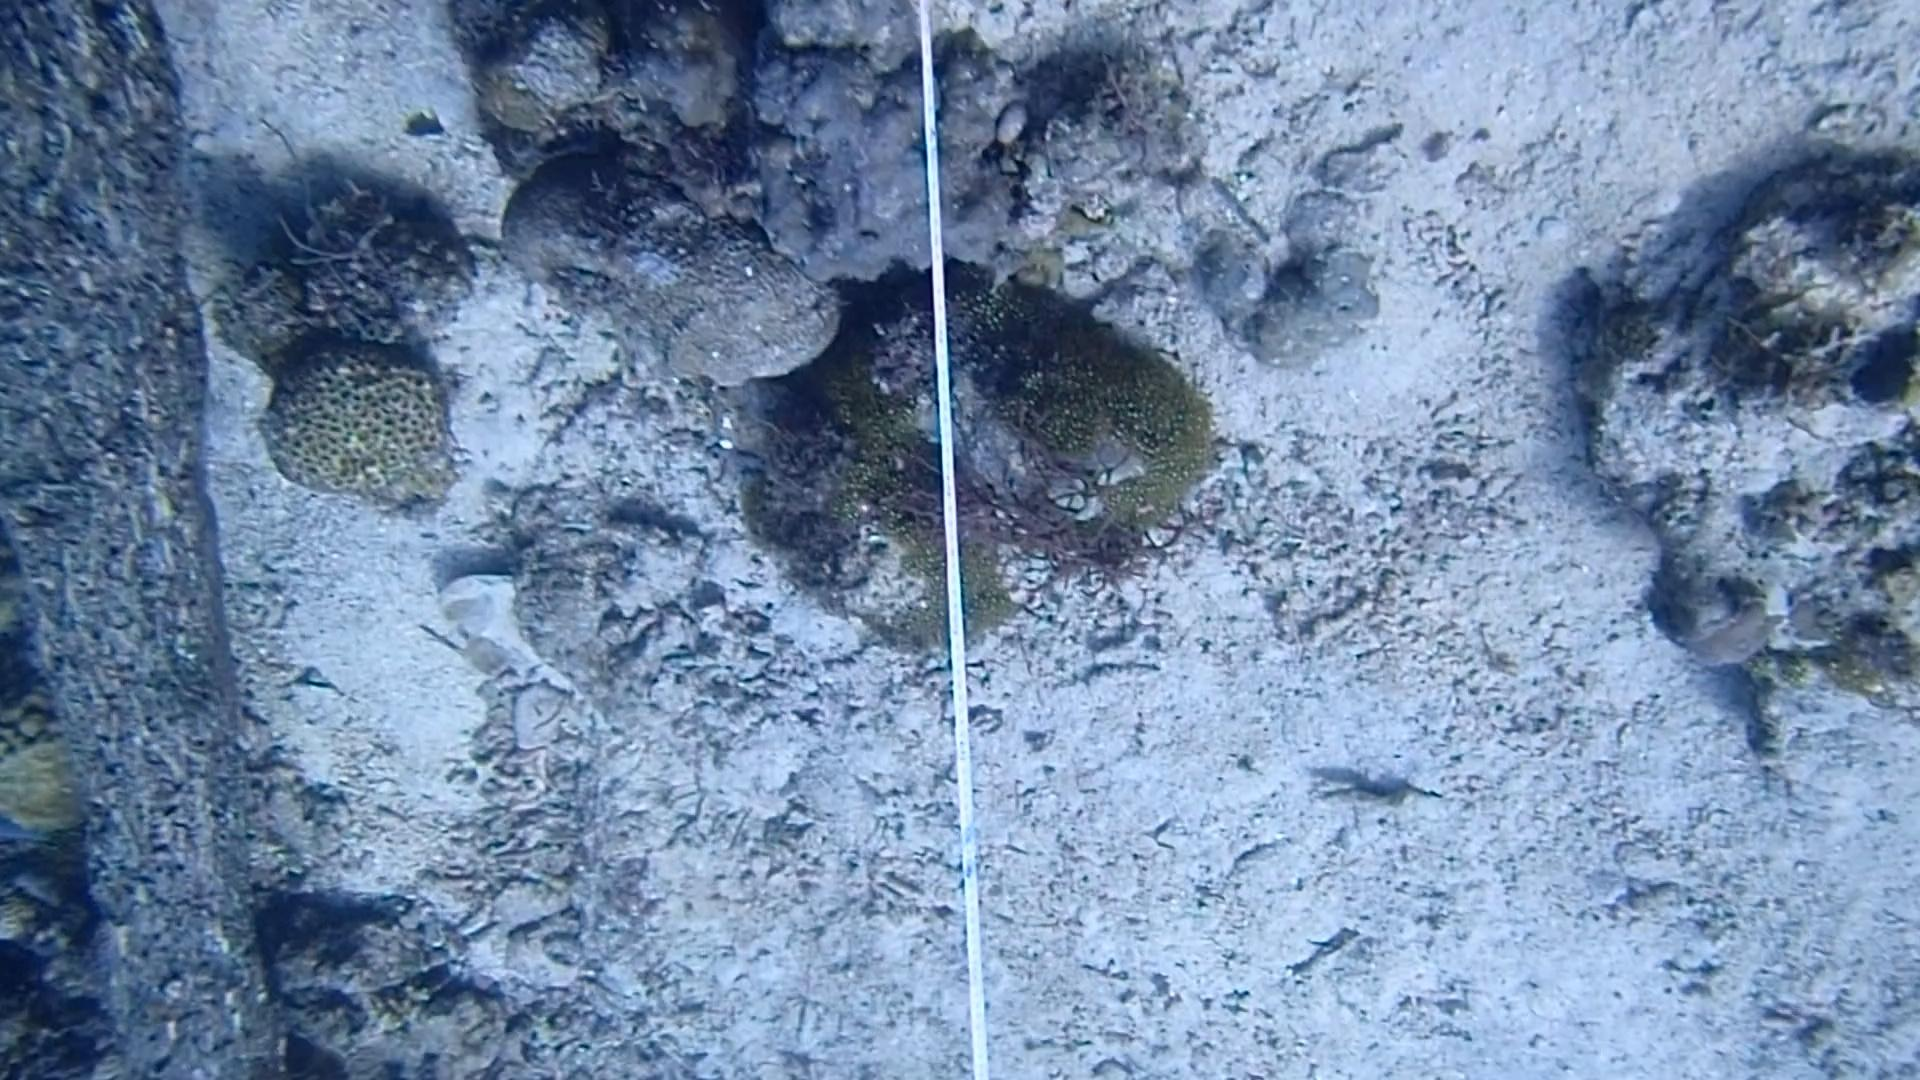UI: (397, 100, 448, 153)
